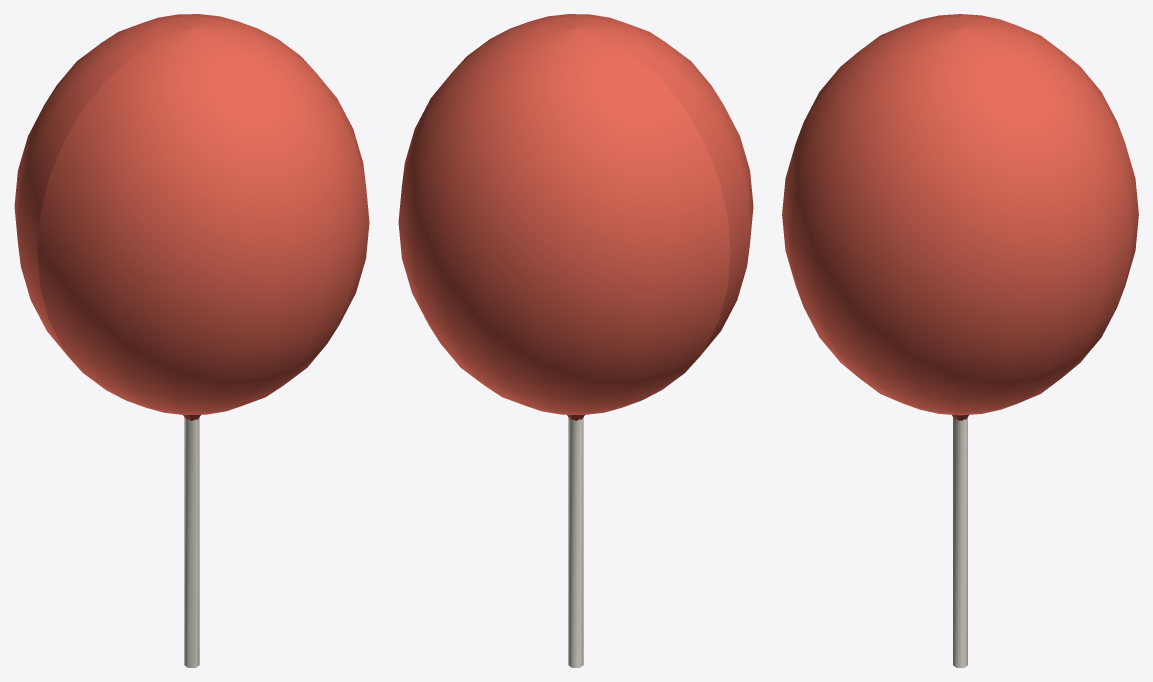
Rendered from held-item.glb.
The picture shows the model from 3 angles, left to right: view 1: azimuth 30°, elevation 25°; view 2: azimuth 150°, elevation 25°; view 3: azimuth 270°, elevation 25°; orthographic projection.
Parts seen in each view (by area): view 1: balloon; view 2: balloon; view 3: balloon.
Boxes of the visible parts, box(x1,y1,x2,y2) form: balloon: box(14, 14, 369, 667); balloon: box(398, 14, 753, 667); balloon: box(782, 14, 1138, 667).
Bounding box in the file's own units: 0.28 × 0.551 × 0.28.
